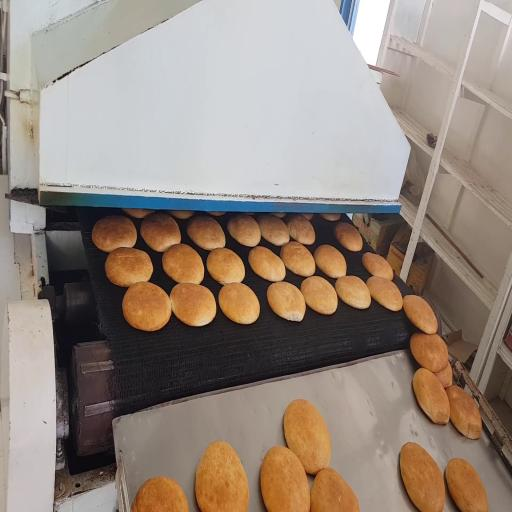bread: (195, 441, 249, 511), (284, 400, 330, 475), (260, 446, 310, 511), (400, 443, 445, 511), (123, 282, 171, 331), (446, 458, 488, 511), (413, 368, 450, 424), (311, 468, 359, 511), (170, 283, 216, 326), (132, 477, 189, 511), (105, 248, 153, 287), (446, 386, 482, 438), (219, 283, 259, 324), (92, 216, 137, 252), (163, 244, 204, 283), (140, 213, 181, 252), (410, 333, 448, 373), (267, 282, 305, 321), (301, 276, 337, 314), (207, 248, 245, 284), (403, 295, 438, 334), (248, 247, 285, 282), (187, 216, 225, 250), (280, 241, 315, 276), (367, 276, 402, 311), (335, 276, 371, 309), (227, 214, 260, 246), (314, 245, 346, 278), (257, 215, 289, 246), (286, 214, 315, 245), (362, 252, 393, 280), (334, 222, 362, 251), (435, 363, 452, 388), (123, 209, 154, 219), (169, 211, 194, 219), (321, 213, 340, 221), (301, 213, 313, 220), (270, 213, 286, 218), (208, 212, 225, 216)
